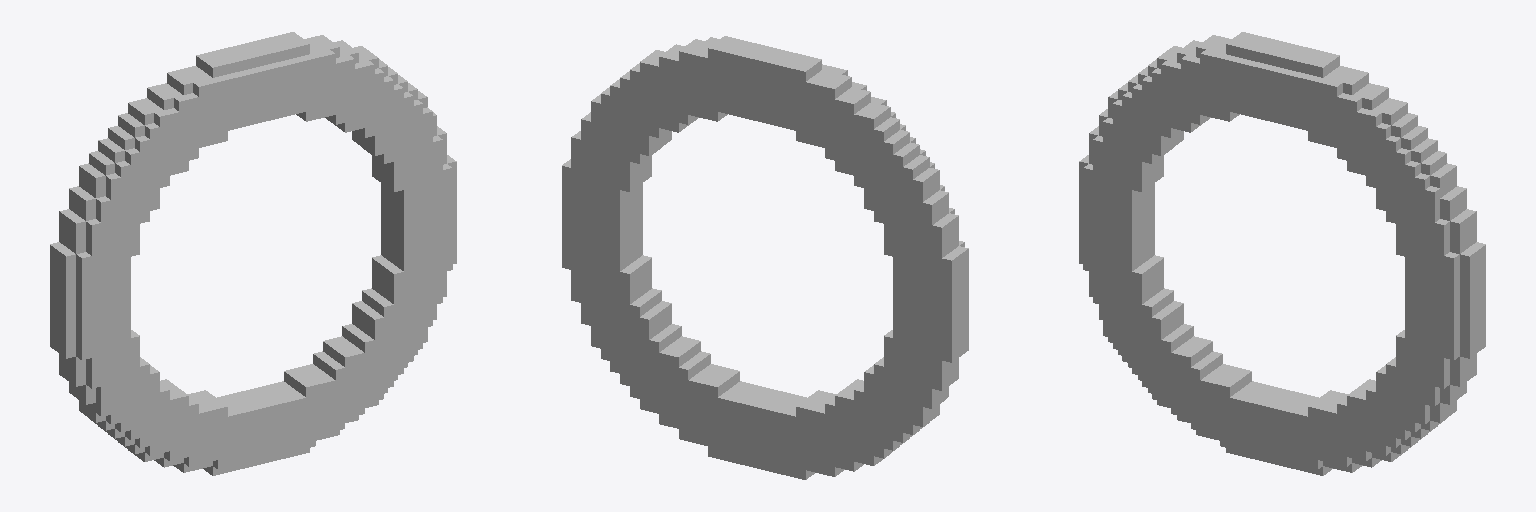
The model's file is Mark.obj.
The picture shows the model from 3 angles: view 1: azimuth 30°, elevation 25°; view 2: azimuth 150°, elevation 25°; view 3: azimuth 330°, elevation 25°; orthographic projection.
Visible parts, largest first — view 1: object 1; view 2: object 1; view 3: object 1.
Part boxes in pixels (x1,y1,x2,y2): object 1: (50, 32, 456, 475); object 1: (562, 36, 968, 479); object 1: (1079, 32, 1485, 475).
Bounding box in the file's own units: 4 × 4 × 0.4.